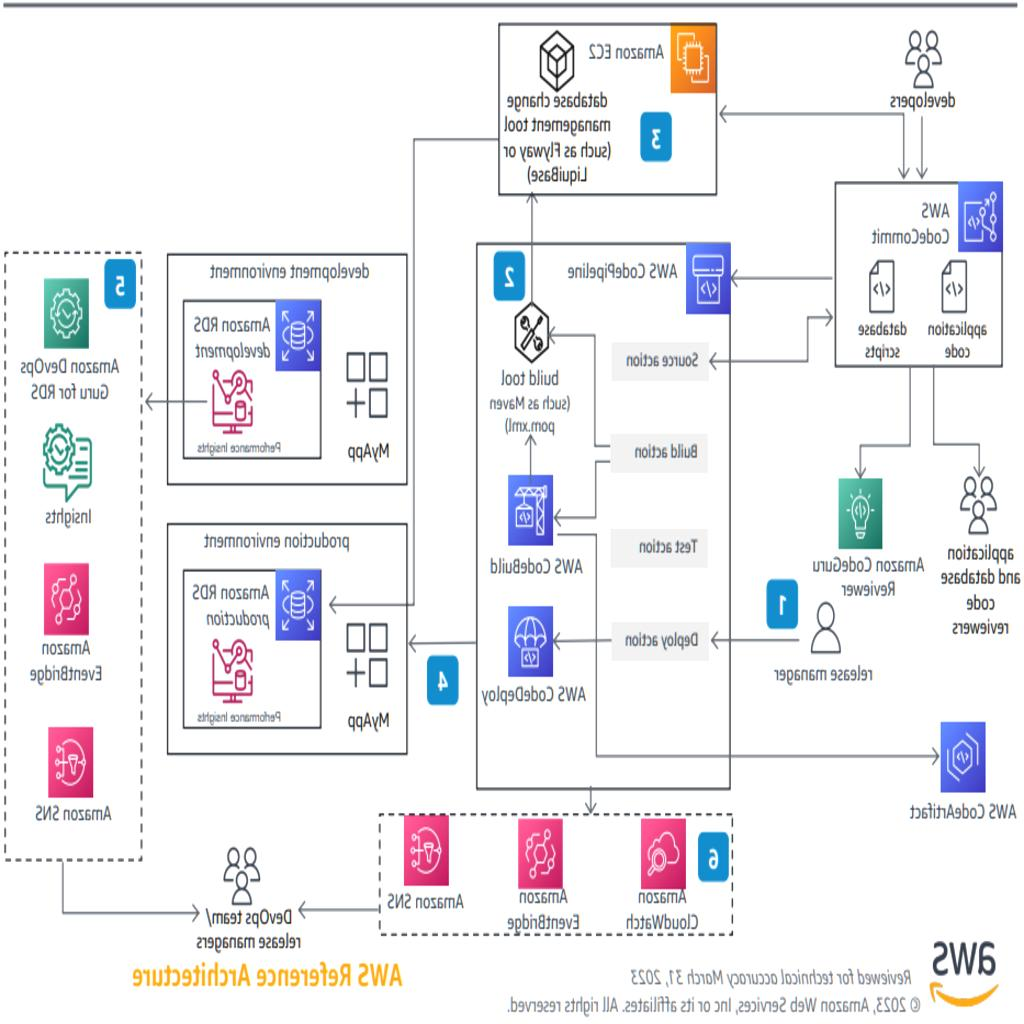actor: (893, 488, 946, 578), (893, 22, 946, 112), (217, 828, 270, 918), (804, 593, 847, 660)
compute: (486, 20, 718, 194), (511, 478, 554, 546), (511, 606, 554, 674), (511, 306, 554, 374), (844, 478, 887, 546), (268, 320, 310, 387), (268, 586, 310, 653)
data_flow: (446, 150, 451, 714), (596, 753, 940, 758), (530, 200, 535, 302), (771, 112, 871, 117), (970, 374, 976, 456), (530, 374, 535, 456), (140, 909, 218, 914), (411, 644, 474, 650), (312, 909, 374, 914), (71, 842, 76, 903), (412, 136, 484, 140), (573, 562, 619, 568), (863, 389, 868, 440), (759, 276, 808, 281), (759, 358, 808, 363), (573, 528, 619, 533), (573, 443, 619, 448), (738, 638, 794, 642), (161, 399, 204, 404), (917, 125, 922, 166), (778, 299, 783, 340), (892, 440, 923, 445), (594, 783, 598, 814)
database_storage: (268, 289, 310, 356), (268, 556, 310, 622)
network_security: (400, 818, 444, 886), (642, 818, 685, 886), (519, 818, 562, 886), (52, 280, 95, 347), (52, 722, 95, 789), (52, 426, 95, 492), (52, 566, 95, 632)
trust_boundary: (476, 240, 732, 794), (4, 251, 143, 865), (168, 254, 410, 484), (168, 522, 410, 752), (382, 811, 734, 934), (486, 20, 718, 194), (835, 177, 1004, 366)
